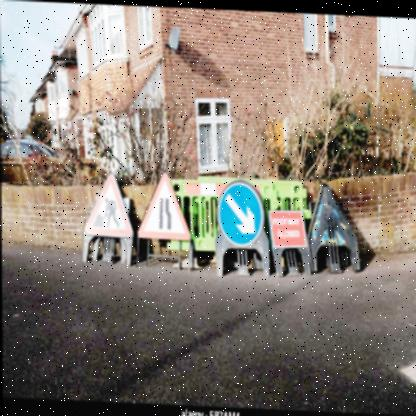Keep right: (219, 176, 264, 247)
